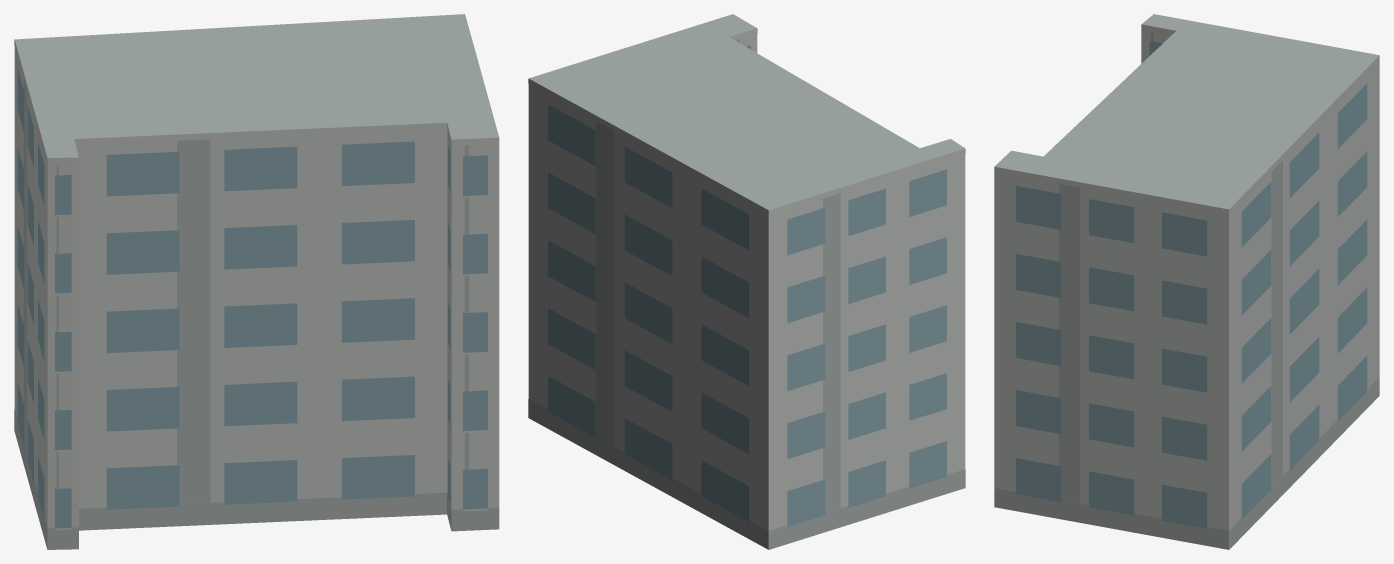
The model's file is survey-upis-32524135.glb.
3 renders of one model, left to right at view 1: azimuth 30°, elevation 25°; view 2: azimuth 150°, elevation 25°; view 3: azimuth 270°, elevation 25°, orthographic. The views are drawn at different scales.
Visible parts, largest first — view 1: survey-upis-32524135.tmp; view 2: survey-upis-32524135.tmp; view 3: survey-upis-32524135.tmp.
Part boxes in pixels (box(x1,y1,x2,y2)): survey-upis-32524135.tmp: box(14, 14, 499, 549); survey-upis-32524135.tmp: box(528, 14, 965, 549); survey-upis-32524135.tmp: box(994, 14, 1379, 549).
Size of the model in its own units: 18.78 by 15.25 by 15.66.
